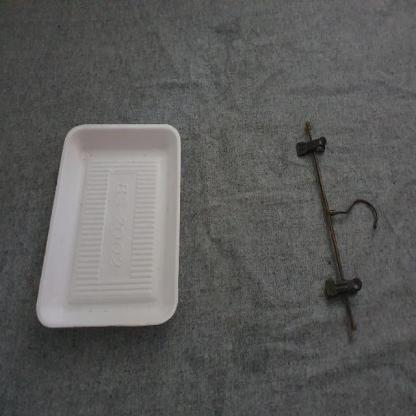Glass Cup: (36, 124, 180, 328), (37, 125, 180, 327)
